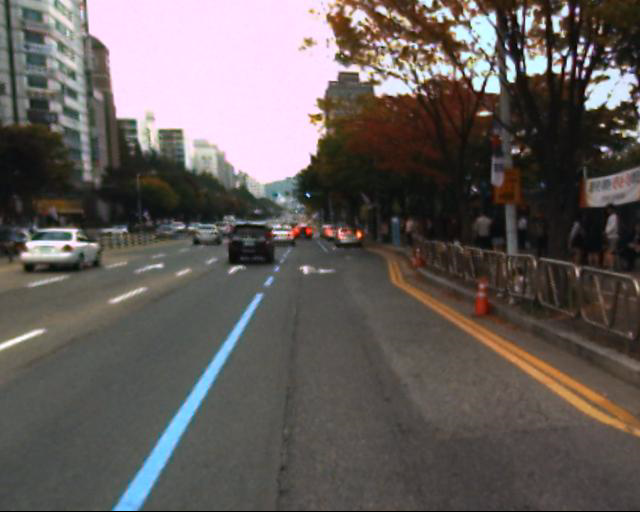person: (550, 206, 599, 252), (595, 205, 627, 275)
